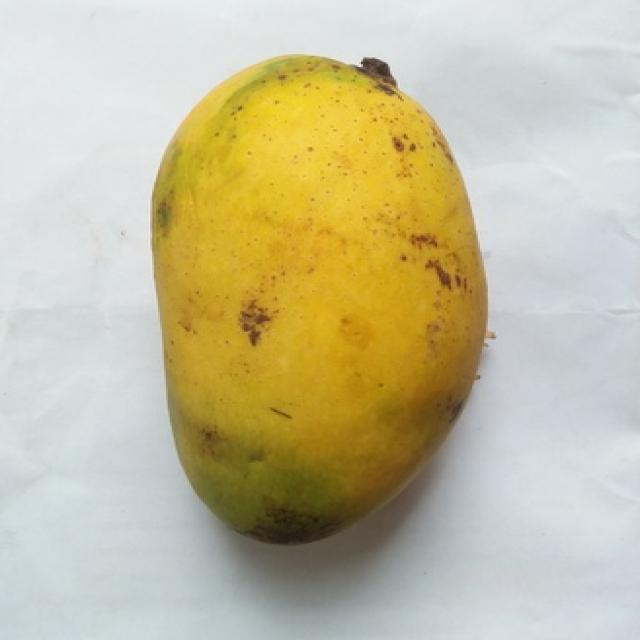Mango: (154, 56, 486, 543)
